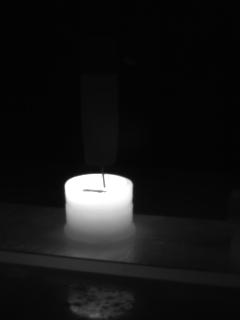tip_wire_left: (86, 161, 106, 191)
tip_wire_right: (103, 161, 117, 191)
